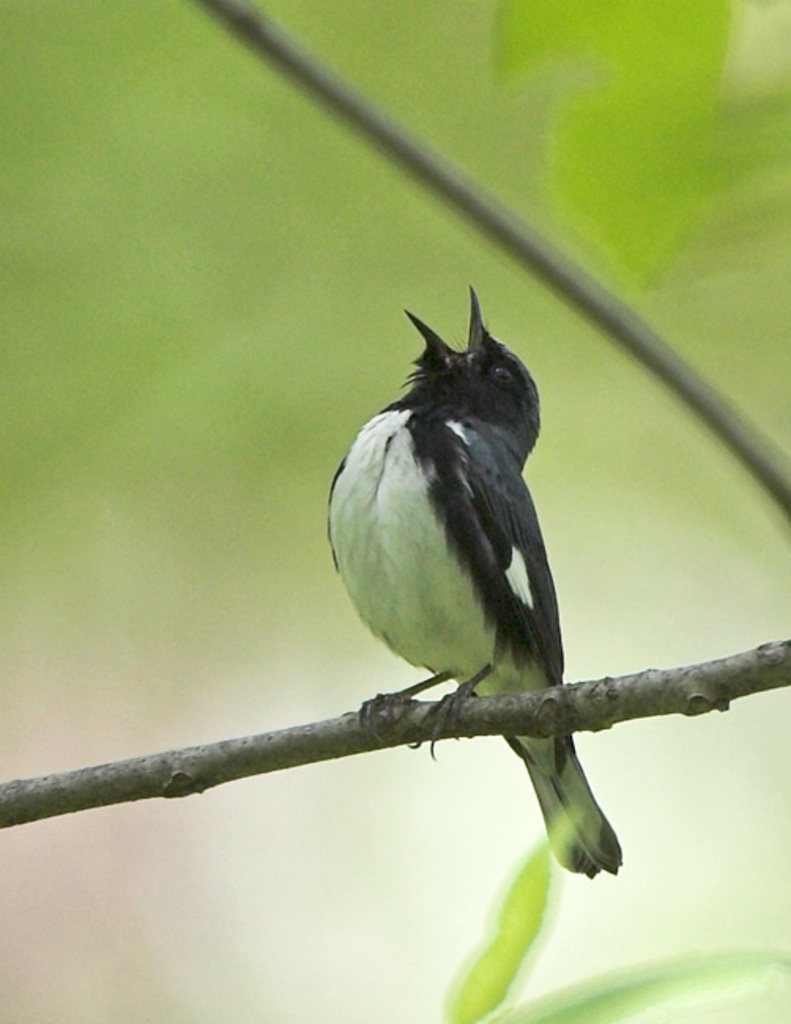Bird: (326, 284, 625, 881)
